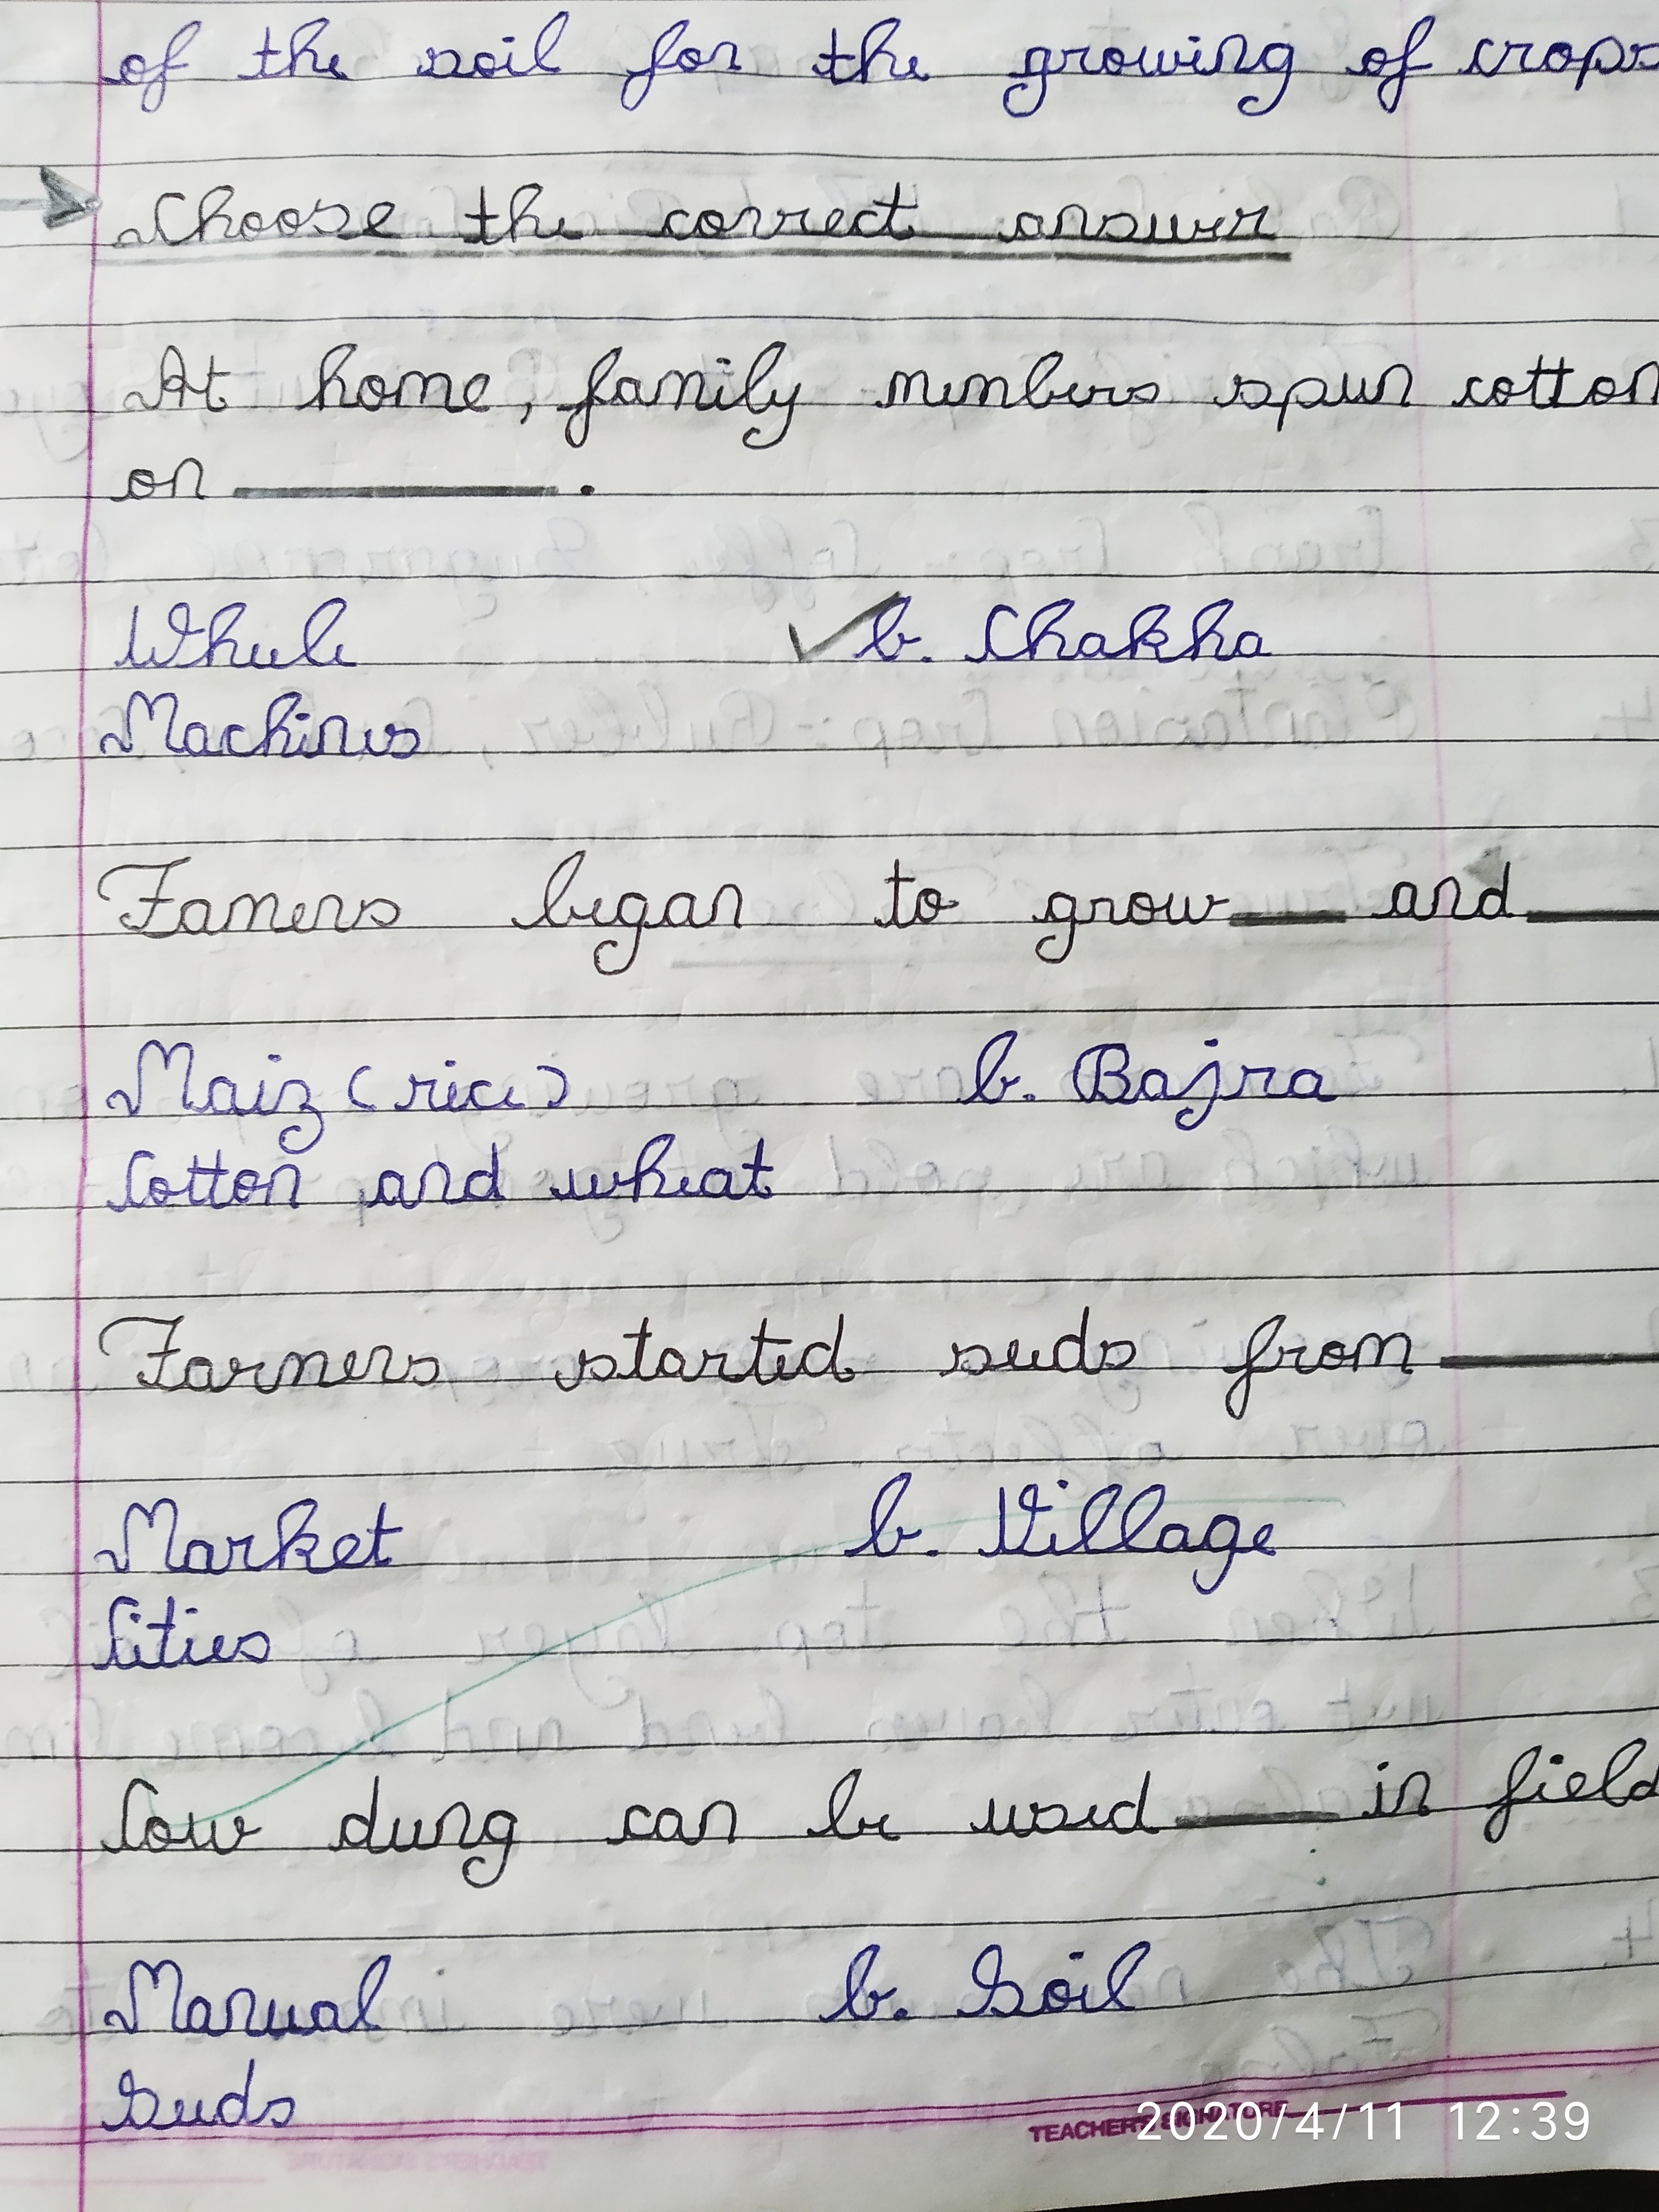A: (150, 343, 192, 411)
B: (1072, 1040, 1133, 1108)
C: (113, 1775, 159, 1853), (105, 1595, 141, 1670), (979, 604, 1021, 662), (118, 1150, 159, 1209), (148, 192, 190, 247)
F: (96, 855, 192, 939), (98, 1315, 186, 1392)
M: (129, 1038, 202, 1116), (120, 1496, 179, 1575), (125, 1958, 185, 2034), (118, 690, 181, 756)
S: (969, 1942, 1026, 2020), (110, 2067, 162, 2132)
V: (992, 1482, 1044, 1559)
W: (120, 601, 197, 671)
a: (178, 1355, 225, 1395), (202, 1076, 246, 1118), (171, 899, 216, 939), (1384, 880, 1424, 923), (305, 2000, 350, 2038), (371, 1169, 411, 1209), (659, 892, 701, 930), (179, 1538, 221, 1576), (181, 1994, 218, 2038), (1284, 1068, 1331, 1101), (695, 1167, 739, 1202), (652, 1804, 688, 1844), (653, 1346, 692, 1383), (1154, 1522, 1195, 1555), (1134, 1068, 1173, 1103), (1072, 631, 1114, 662), (1230, 631, 1276, 658), (1007, 211, 1049, 240), (179, 721, 213, 758), (610, 376, 648, 408)
b: (863, 1470, 917, 1559), (535, 850, 589, 930), (864, 596, 922, 664), (836, 1944, 885, 2022), (972, 1029, 1021, 1106), (823, 1766, 871, 1841), (1019, 348, 1065, 411)
c: (615, 1803, 653, 1843), (1464, 37, 1500, 77), (657, 207, 697, 240), (216, 725, 251, 758), (464, 1078, 498, 1111), (849, 207, 882, 239), (1459, 376, 1488, 408)
d: (795, 1312, 856, 1383), (1105, 1768, 1161, 1838), (336, 1775, 383, 1857), (1046, 1305, 1096, 1376), (211, 2055, 260, 2127), (460, 1141, 507, 1204), (1471, 859, 1516, 920)
e: (361, 202, 403, 240), (328, 1533, 364, 1571), (460, 373, 493, 415), (1248, 1522, 1281, 1557), (1558, 1770, 1591, 1804), (204, 1634, 234, 1665), (1000, 1338, 1026, 1371), (338, 1350, 362, 1385), (284, 902, 308, 935), (821, 207, 845, 239), (770, 1353, 791, 1383)
f: (1225, 1313, 1288, 1421), (619, 17, 690, 111), (561, 347, 626, 449), (1377, 14, 1436, 115), (1483, 1743, 1542, 1844), (141, 19, 202, 113)
g: (592, 892, 652, 975), (1236, 42, 1297, 118), (462, 1810, 519, 1890), (1190, 1512, 1243, 1595), (1000, 45, 1053, 120), (1033, 890, 1079, 965)
h: (1021, 597, 1077, 662), (627, 1132, 680, 1200), (856, 17, 906, 85), (312, 343, 359, 411), (206, 601, 249, 671), (260, 690, 303, 758), (1188, 597, 1234, 660), (284, 17, 329, 78), (505, 181, 549, 242), (197, 185, 237, 242)
i: (251, 1054, 284, 1116), (1046, 1479, 1072, 1557), (1068, 1949, 1098, 2015), (1366, 1759, 1396, 1818), (1534, 1752, 1565, 1804), (179, 1608, 204, 1667), (441, 1059, 465, 1113), (711, 355, 734, 413), (127, 1611, 148, 1670), (498, 37, 523, 78), (1185, 35, 1208, 78), (293, 712, 312, 759)
j: (1175, 1036, 1222, 1132)
k: (274, 1496, 326, 1576), (1124, 603, 1175, 665)
l: (1100, 1939, 1152, 2015), (741, 340, 789, 420), (1598, 1737, 1649, 1808), (296, 597, 347, 667), (352, 1951, 394, 2034), (1119, 1482, 1166, 1555), (1077, 1482, 1122, 1557), (528, 10, 570, 78)
m: (392, 369, 460, 415), (1347, 1332, 1417, 1376), (221, 892, 284, 935), (652, 368, 708, 413), (877, 368, 938, 408), (958, 373, 1012, 409)
n: (272, 1350, 335, 1392), (429, 1799, 476, 1853), (692, 1799, 742, 1848), (220, 1986, 263, 2038), (1391, 1768, 1434, 1818), (261, 1163, 305, 1211), (413, 1160, 455, 1207), (164, 456, 207, 500), (1209, 33, 1251, 78), (1373, 362, 1415, 408), (1427, 876, 1469, 921), (706, 883, 746, 930), (308, 894, 352, 935), (315, 714, 354, 758), (1051, 204, 1093, 240), (362, 1345, 397, 1383), (732, 206, 767, 240), (706, 40, 742, 71)
o: (908, 887, 948, 930), (136, 1815, 178, 1853), (1035, 1977, 1077, 2015), (120, 467, 162, 502), (1537, 40, 1577, 75), (352, 373, 387, 413), (227, 1169, 261, 1209), (1579, 374, 1621, 408), (1124, 890, 1157, 927), (1314, 1339, 1351, 1372), (1352, 45, 1391, 77), (117, 52, 150, 87), (694, 209, 728, 239), (1098, 45, 1129, 77), (274, 207, 305, 239), (145, 1176, 176, 1207), (469, 51, 502, 80), (671, 47, 708, 73), (1488, 376, 1518, 408), (237, 211, 265, 242)
p: (1572, 33, 1626, 92), (1276, 376, 1328, 432)
qqbc: (535, 1062, 570, 1108)
qqbo: (347, 1064, 378, 1113)
qqcoma: (519, 401, 533, 425)
qqfstop: (890, 2006, 911, 2024), (579, 482, 596, 496), (1021, 1090, 1037, 1104), (918, 655, 934, 665), (925, 1548, 939, 1559)
r: (1230, 1064, 1283, 1099), (225, 1355, 270, 1395), (1229, 206, 1279, 240), (220, 1533, 260, 1575), (399, 1073, 443, 1111), (1495, 38, 1537, 77), (692, 1348, 734, 1385), (770, 207, 816, 237), (1082, 895, 1121, 927), (1272, 1345, 1310, 1376), (1054, 45, 1094, 75), (1082, 385, 1121, 408)
s: (1222, 373, 1274, 411), (352, 895, 403, 934), (1025, 1799, 1072, 1836), (310, 197, 350, 239), (948, 1341, 993, 1378), (570, 1348, 617, 1383), (1093, 1339, 1138, 1374), (422, 45, 465, 80), (399, 1353, 443, 1388), (382, 723, 422, 759), (232, 1630, 274, 1665), (1094, 212, 1138, 244), (1122, 381, 1161, 406)
t: (739, 1136, 775, 1202), (744, 1317, 775, 1386), (882, 857, 910, 930), (366, 1501, 394, 1571), (153, 1594, 178, 1670), (880, 181, 910, 242), (627, 1315, 653, 1383), (819, 28, 849, 87), (197, 354, 227, 413), (251, 24, 282, 80), (471, 183, 498, 246), (1521, 354, 1547, 411), (1547, 355, 1574, 411), (179, 1155, 206, 1207), (206, 1148, 227, 1211)
u: (261, 1998, 307, 2040), (981, 1796, 1023, 1839), (385, 1817, 427, 1855), (1335, 371, 1371, 406), (1145, 212, 1182, 246), (244, 643, 286, 669)
w: (181, 1810, 254, 1857), (1161, 890, 1218, 925), (565, 1167, 626, 1198), (1133, 44, 1183, 77)
y: (741, 383, 803, 451)
z: (274, 1078, 328, 1157)
